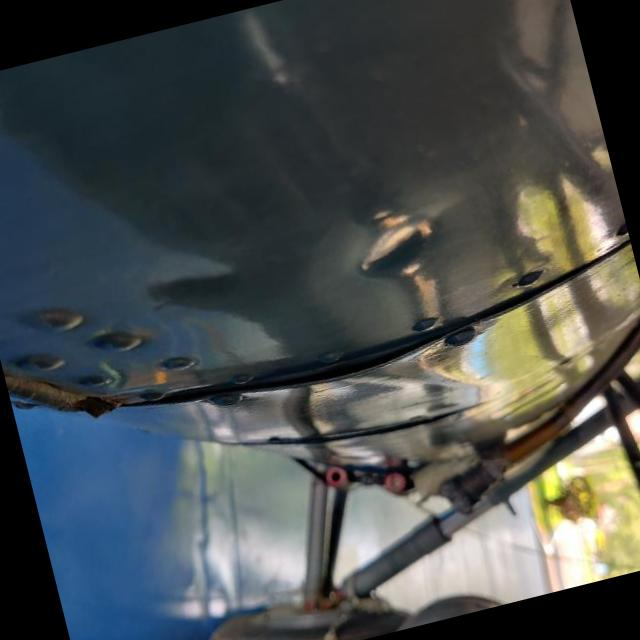Dent: (144, 251, 239, 312), (358, 209, 432, 276)
